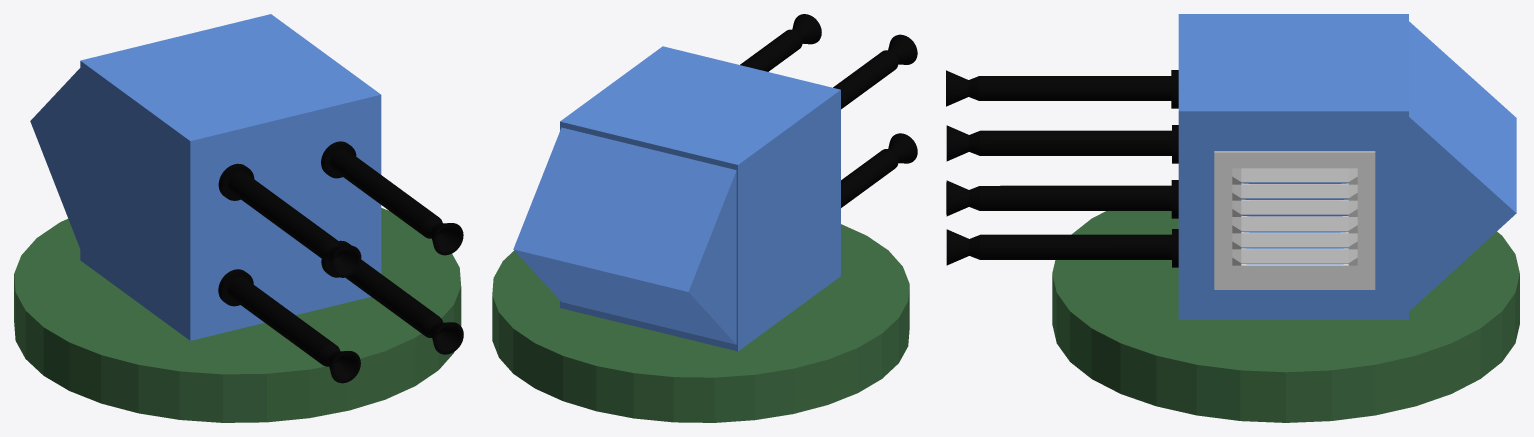
The model's file is Towerdefence (2).fbx.
3 renders of one model, left to right at view 1: azimuth 30°, elevation 25°; view 2: azimuth 150°, elevation 25°; view 3: azimuth 270°, elevation 25°, orthographic. The views are drawn at different scales.
Visible parts, largest first — view 1: Cylinder.005, Cylinder; view 2: Cylinder.005, Cylinder; view 3: Cylinder.005, Cylinder.
Boxes of the visible parts, x1=… form: Cylinder.005: x1=30, y1=14, x2=463, y2=383; Cylinder: x1=14, y1=208, x2=461, y2=422; Cylinder.005: x1=513, y1=14, x2=917, y2=351; Cylinder: x1=492, y1=224, x2=909, y2=422; Cylinder.005: x1=946, y1=14, x2=1516, y2=319; Cylinder: x1=1052, y1=211, x2=1519, y2=422.
Size of the model in its own units: 407 by 249 by 499.
